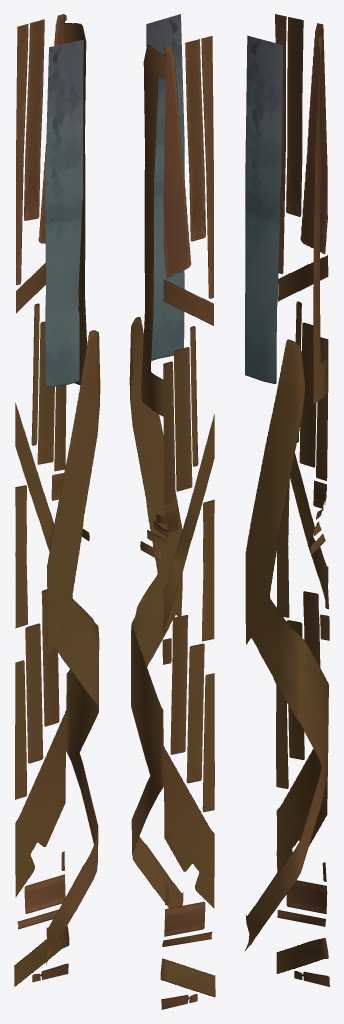
Rendered from wood_part.fbx.
3 views of the same model, side by side, from view 1: azimuth 30°, elevation 25°; view 2: azimuth 210°, elevation 25°; view 3: azimuth 330°, elevation 25° (orthographic).
Visible parts, largest first — view 1: door_modular.004; view 2: door_modular.004; view 3: door_modular.004.
Part boxes in pixels (left/top/right/bottom): door_modular.004: left=14, top=14, right=100, bottom=986; door_modular.004: left=129, top=14, right=215, bottom=1009; door_modular.004: left=245, top=14, right=329, bottom=986.
Bounding box in the file's own units: 38.89 × 605 × 40.08.
